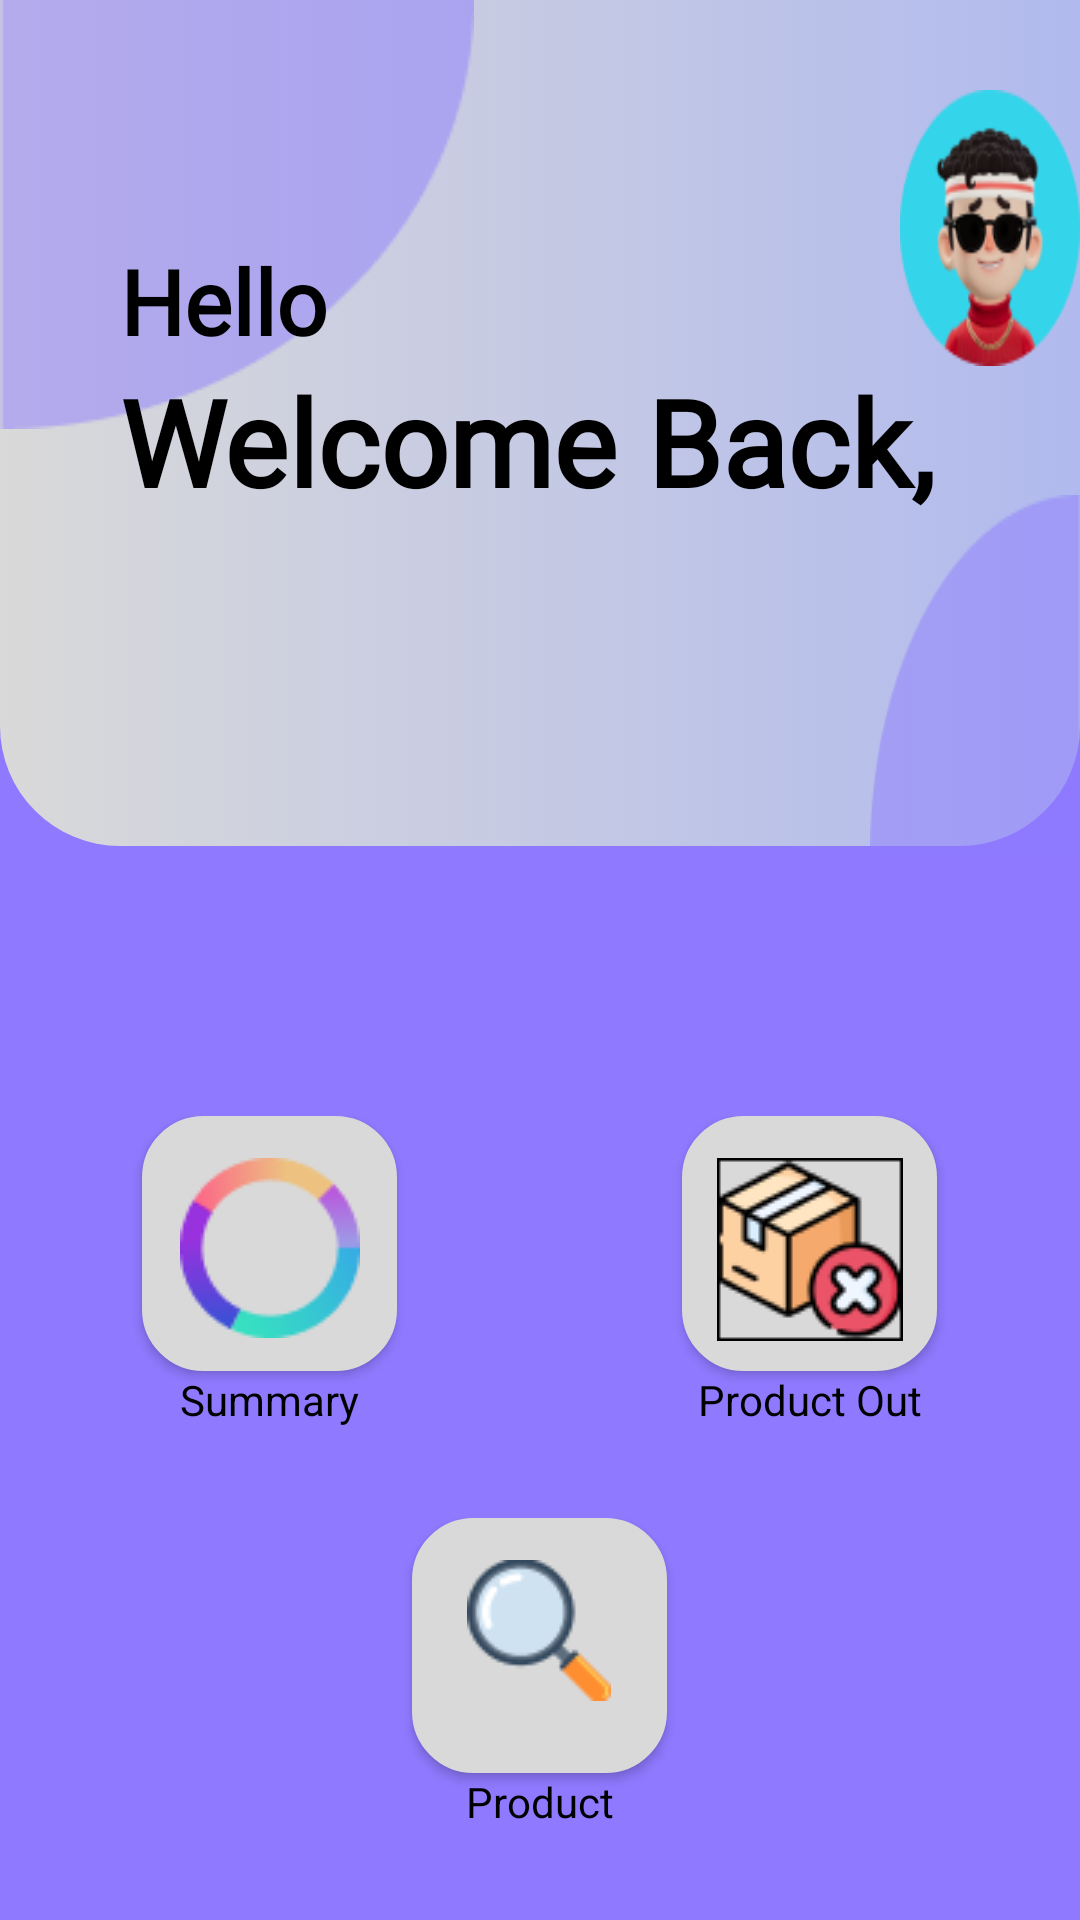

Point at icon controls on the screen. Image size 1080 x 1920, points as [x,y].
Tombol Profile: [990,228]
